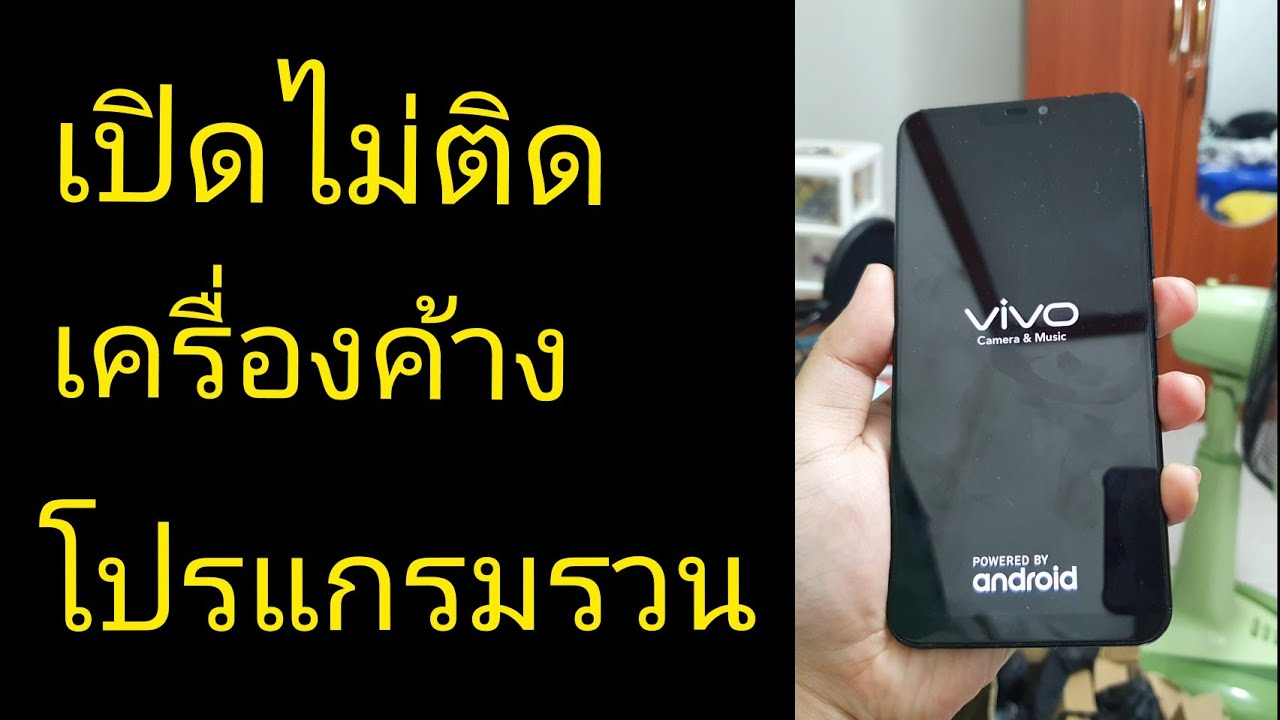Phone: (886, 93, 1180, 651)
